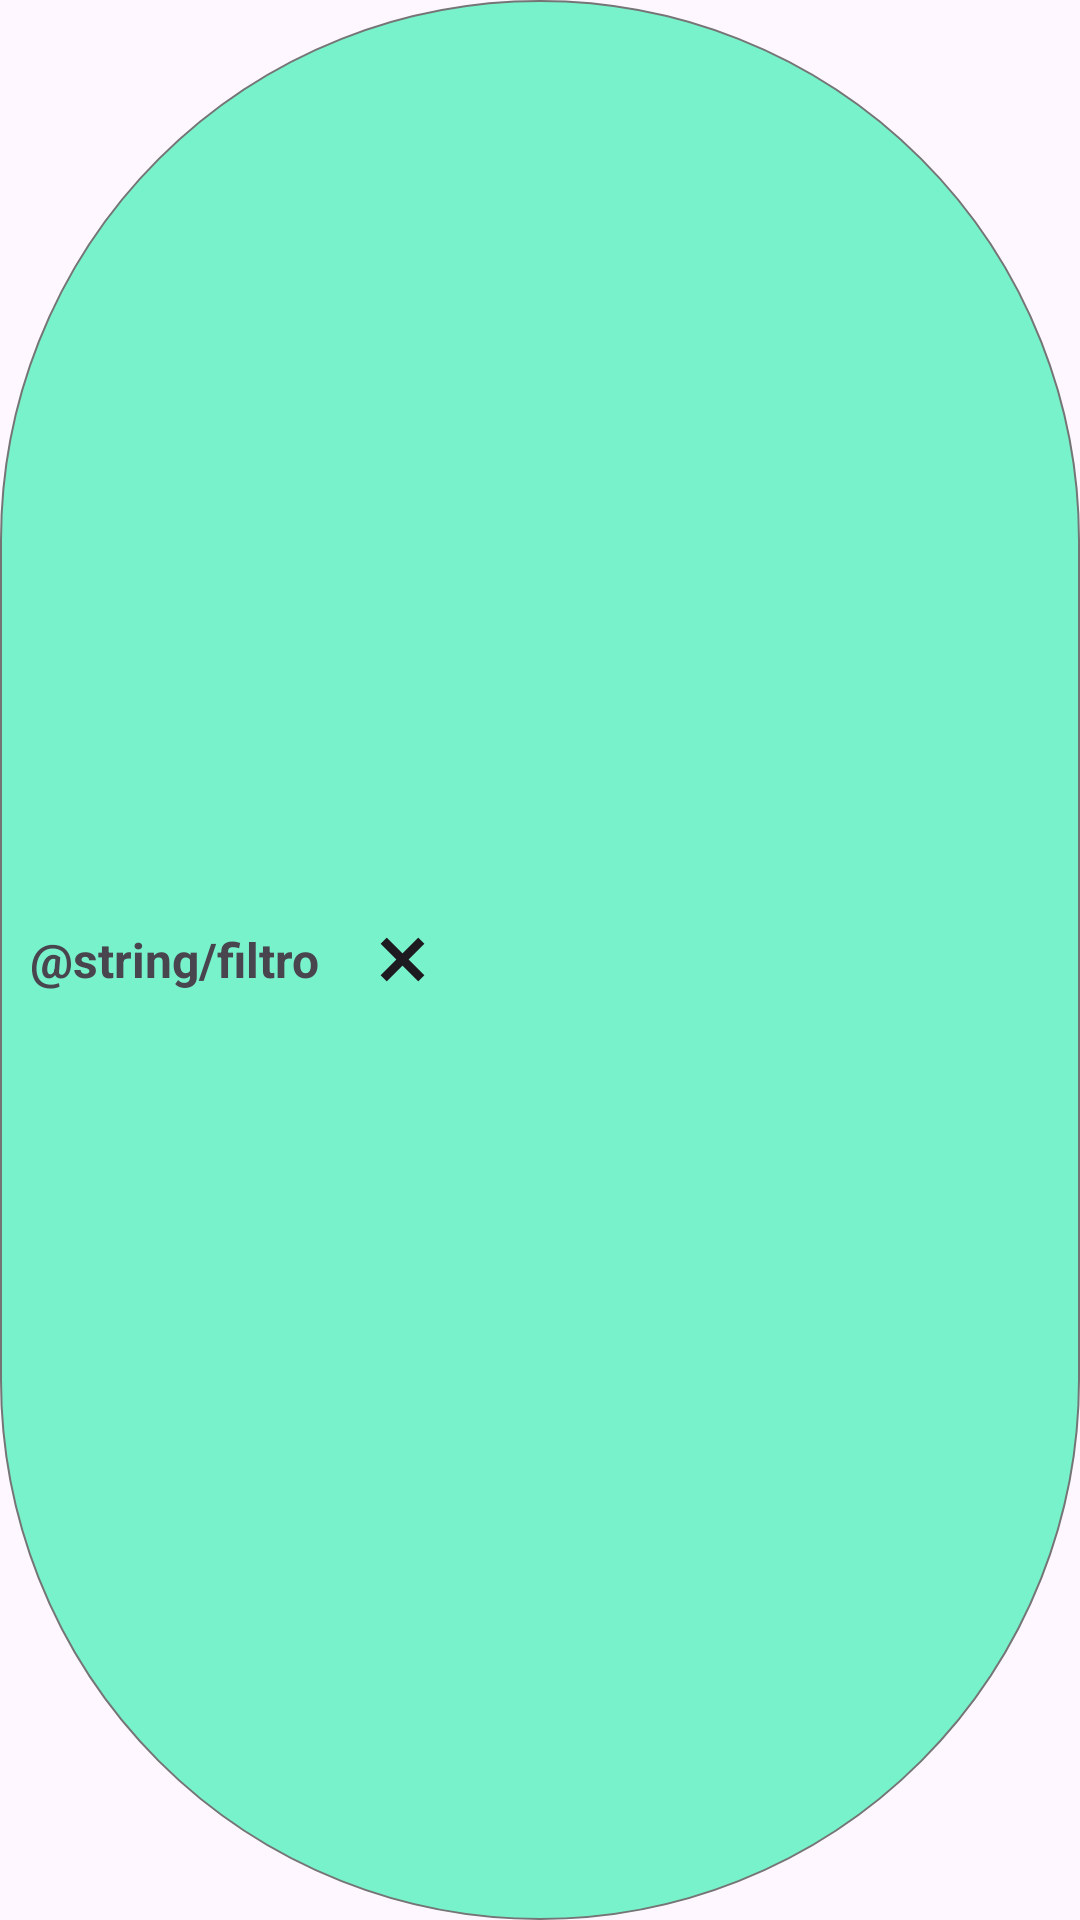

Icon bounding boxes for this 1080 × 1920 phone screenshot, format bbox=[x1, y1, x2, y2]:
close: bbox=[380, 937, 425, 982]
